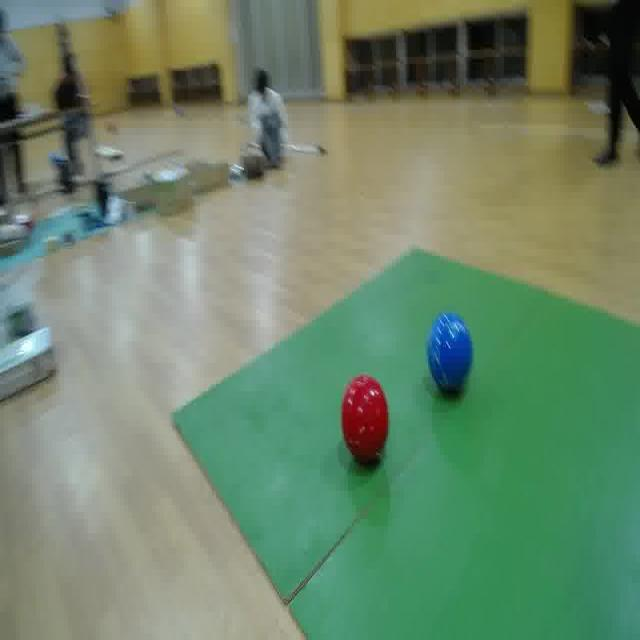blue_ball: (426, 308, 472, 398)
red_ball: (339, 372, 392, 465)
